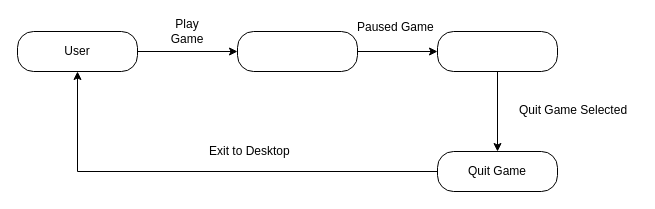
Some shapes in this 655 by 209 pixel diagram are drawn without their labels. The shapes that lost their labels are listed below. From the top down, each one's box as (x1, y1, x2, y2) in pixels, then its label:
(236, 30, 358, 72): Pause Game
(436, 30, 558, 72): Options
